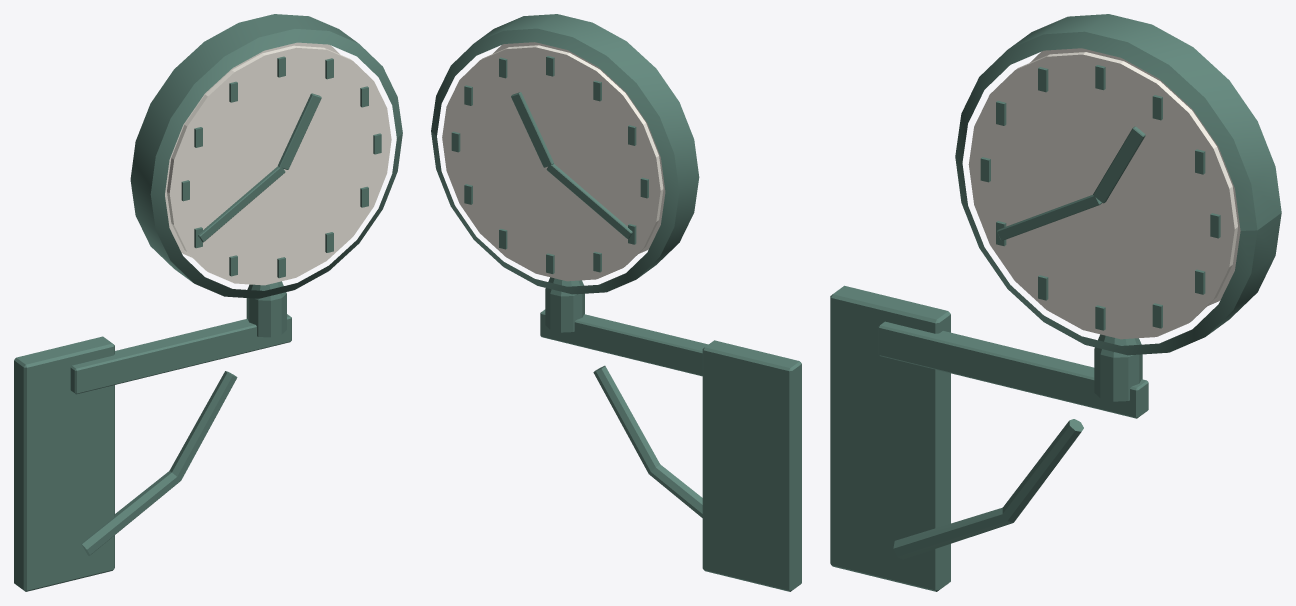
3 views of the same model, side by side, from view 1: azimuth 30°, elevation 25°; view 2: azimuth 150°, elevation 25°; view 3: azimuth 330°, elevation 25° (orthographic). The views are drawn at different scales.
Visible parts, largest first — view 1: hall-clock-on-bracket; view 2: hall-clock-on-bracket; view 3: hall-clock-on-bracket.
Part boxes in pixels (box(x1,y1,x2,y2)): hall-clock-on-bracket: box(14, 14, 402, 591); hall-clock-on-bracket: box(431, 14, 801, 591); hall-clock-on-bracket: box(830, 14, 1281, 591).
Size of the model in its own units: 1.05 by 1.39 by 0.1719.
